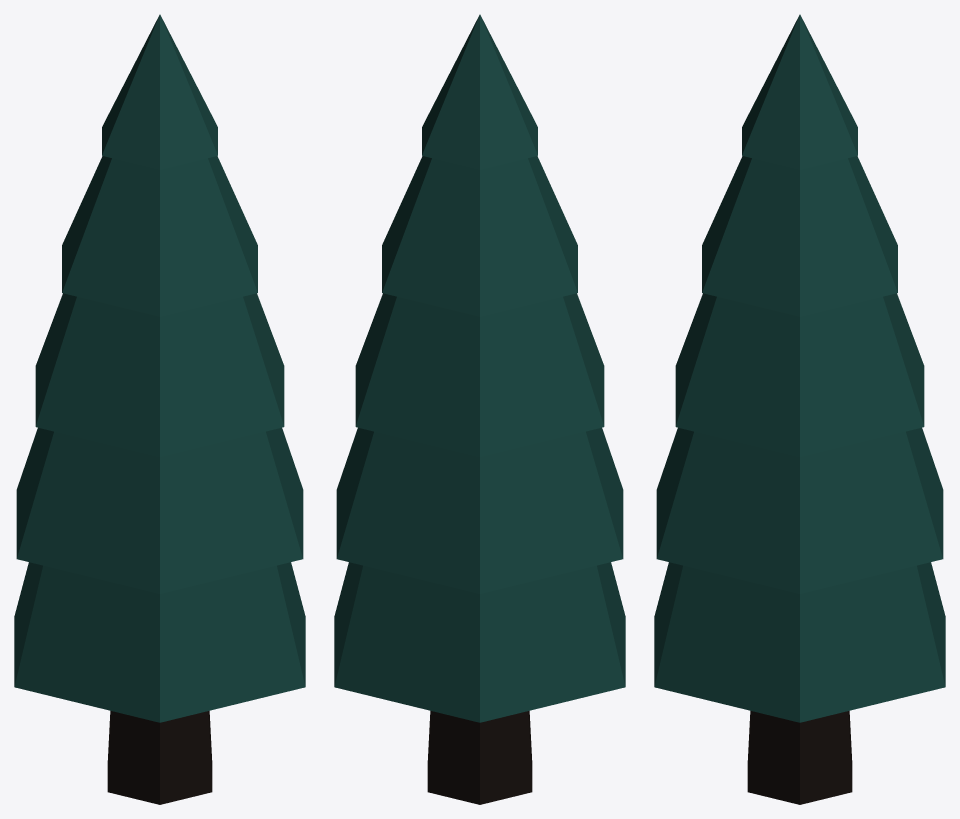
File: tree.obj
3 views of the same model, side by side, from view 1: azimuth 30°, elevation 25°; view 2: azimuth 150°, elevation 25°; view 3: azimuth 270°, elevation 25° (orthographic).
Visible parts, largest first — view 1: Cylinder.005_Cylinder.007; view 2: Cylinder.005_Cylinder.007; view 3: Cylinder.005_Cylinder.007.
Boxes of the visible parts, x1=… form: Cylinder.005_Cylinder.007: x1=14, y1=14, x2=305, y2=804; Cylinder.005_Cylinder.007: x1=334, y1=14, x2=625, y2=804; Cylinder.005_Cylinder.007: x1=654, y1=14, x2=945, y2=804.
Size of the model in its own units: 1.95 by 4.9 by 1.69.
